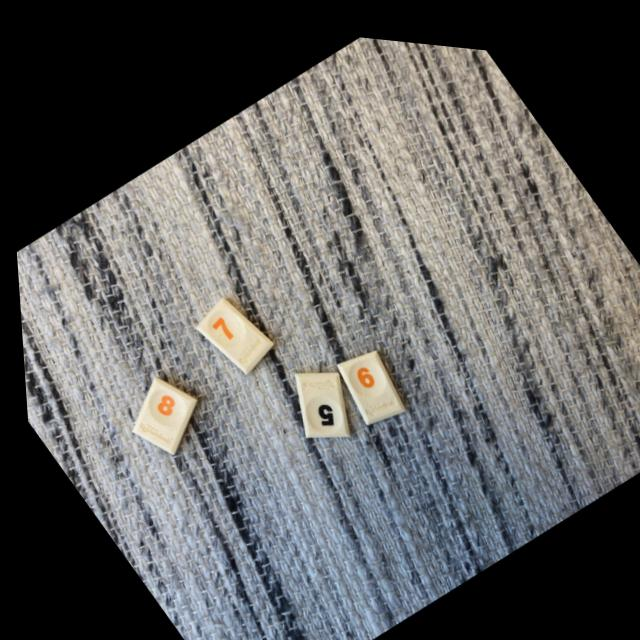orange_6: (332, 342, 400, 417)
orange_7: (193, 293, 269, 368)
orange_8: (127, 374, 191, 451), (290, 365, 344, 430)
